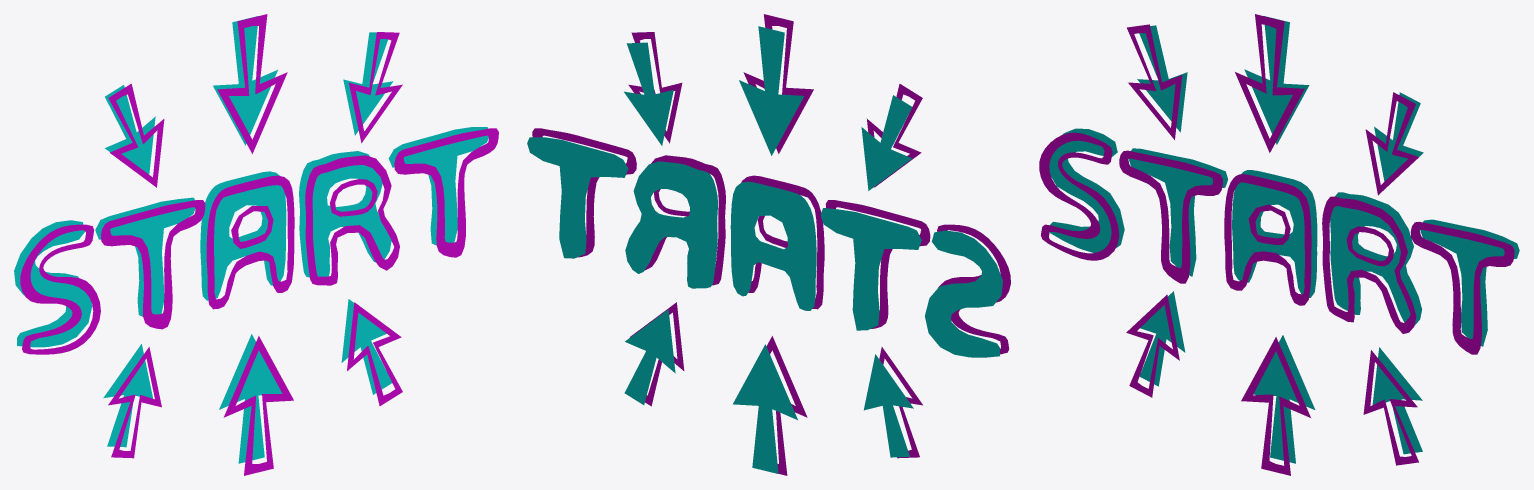
Rendered from mesh_text_start.fbx.
3 renders of one model, left to right at view 1: azimuth 30°, elevation 25°; view 2: azimuth 150°, elevation 25°; view 3: azimuth 330°, elevation 25°, orthographic.
Visible parts, largest first — view 1: mesh_text_start, mesh_text_start1, mesh_text_start2, mesh_text_start3; view 2: mesh_text_start, mesh_text_start2, mesh_text_start1, mesh_text_start3; view 3: mesh_text_start, mesh_text_start1, mesh_text_start2, mesh_text_start3.
Part boxes in pixels (box(x1,y1,x2,y2)): mesh_text_start: box(14, 127, 488, 347); mesh_text_start1: box(20, 128, 498, 354); mesh_text_start2: box(103, 16, 393, 463); mesh_text_start3: box(108, 14, 402, 475); mesh_text_start: box(527, 137, 1002, 357); mesh_text_start2: box(624, 26, 913, 473); mesh_text_start1: box(532, 128, 1010, 354); mesh_text_start3: box(628, 14, 922, 475); mesh_text_start: box(1049, 128, 1519, 346); mesh_text_start1: box(1039, 132, 1514, 354); mesh_text_start2: box(1137, 16, 1423, 463); mesh_text_start3: box(1126, 14, 1418, 475).
Size of the model in its own units: 0.083 by 0.0756 by 0.00212.
